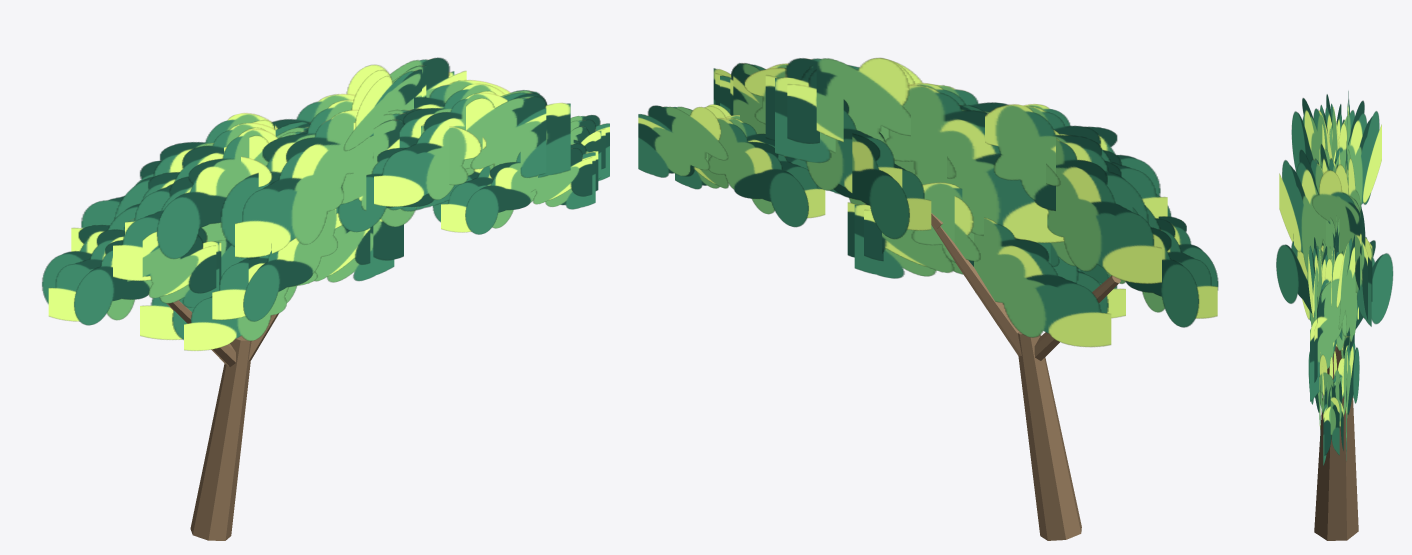
Rendered from TREE_COASTAL_WIND_001_LOD_CLOSE.glb.
3 views of the same model, side by side, from view 1: azimuth 30°, elevation 25°; view 2: azimuth 150°, elevation 25°; view 3: azimuth 270°, elevation 25° (orthographic). The views are drawn at different scales.
Parts seen in each view (by area): view 1: GG_TREE_COASTAL_WIND_001_FRONT_02_01, GG_TREE_COASTAL_WIND_001_BRANCH_00, GG_TREE_COASTAL_WIND_001_FRONT_03_02, GG_TREE_COASTAL_WIND_001_FRONT_01_02, GG_TREE_COASTAL_WIND_001_FRONT_03_01, GG_TREE_COASTAL_WIND_001_FRONT_05_02, GG_TREE_COASTAL_WIND_001_FRONT_00_00, GG_TREE_COASTAL_WIND_001_FRONT_01_00, GG_TREE_COASTAL_WIND_001_FRONT_05_00, GG_TREE_COASTAL_WIND_001_FRONT_03_00, GG_TREE_COASTAL_WIND_001_MID_02_01, GG_TREE_COASTAL_WIND_001_FRONT_04_01 (+25 smaller); view 2: GG_TREE_COASTAL_WIND_001_REAR_02_01, GG_TREE_COASTAL_WIND_001_REAR_05_00, GG_TREE_COASTAL_WIND_001_REAR_01_00, GG_TREE_COASTAL_WIND_001_REAR_02_02, GG_TREE_COASTAL_WIND_001_REAR_01_02, GG_TREE_COASTAL_WIND_001_BRANCH_00, GG_TREE_COASTAL_WIND_001_REAR_04_02, GG_TREE_COASTAL_WIND_001_REAR_04_01, GG_TREE_COASTAL_WIND_001_REAR_03_00, GG_TREE_COASTAL_WIND_001_REAR_03_02, GG_TREE_COASTAL_WIND_001_REAR_05_01, GG_TREE_COASTAL_WIND_001_REAR_00_01 (+14 smaller); view 3: GG_TREE_COASTAL_WIND_001_BRANCH_00, GG_TREE_COASTAL_WIND_001_FRONT_02_01, GG_TREE_COASTAL_WIND_001_REAR_01_00, GG_TREE_COASTAL_WIND_001_FRONT_02_02, GG_TREE_COASTAL_WIND_001_REAR_03_01, GG_TREE_COASTAL_WIND_001_FRONT_01_02, GG_TREE_COASTAL_WIND_001_FRONT_05_02, GG_TREE_COASTAL_WIND_001_REAR_03_00, GG_TREE_COASTAL_WIND_001_REAR_03_02, GG_TREE_COASTAL_WIND_001_MID_02_02, GG_TREE_COASTAL_WIND_001_REAR_04_01, GG_TREE_COASTAL_WIND_001_FRONT_04_02 (+14 smaller).
Boxes of the visible parts, bbox=[...] form: GG_TREE_COASTAL_WIND_001_FRONT_02_01: bbox=[235, 110, 358, 257]; GG_TREE_COASTAL_WIND_001_BRANCH_00: bbox=[190, 335, 251, 540]; GG_TREE_COASTAL_WIND_001_FRONT_03_02: bbox=[374, 93, 507, 206]; GG_TREE_COASTAL_WIND_001_FRONT_01_02: bbox=[157, 129, 277, 258]; GG_TREE_COASTAL_WIND_001_FRONT_03_01: bbox=[466, 96, 546, 177]; GG_TREE_COASTAL_WIND_001_FRONT_05_02: bbox=[243, 208, 342, 321]; GG_TREE_COASTAL_WIND_001_FRONT_00_00: bbox=[127, 231, 216, 298]; GG_TREE_COASTAL_WIND_001_FRONT_01_00: bbox=[113, 156, 272, 280]; GG_TREE_COASTAL_WIND_001_FRONT_05_00: bbox=[184, 254, 317, 350]; GG_TREE_COASTAL_WIND_001_FRONT_03_00: bbox=[338, 126, 481, 231]; GG_TREE_COASTAL_WIND_001_MID_02_01: bbox=[220, 100, 353, 246]; GG_TREE_COASTAL_WIND_001_FRONT_04_01: bbox=[465, 152, 536, 234]; GG_TREE_COASTAL_WIND_001_REAR_02_01: bbox=[885, 85, 1064, 242]; GG_TREE_COASTAL_WIND_001_REAR_05_00: bbox=[950, 217, 1111, 347]; GG_TREE_COASTAL_WIND_001_REAR_01_00: bbox=[1047, 138, 1161, 283]; GG_TREE_COASTAL_WIND_001_REAR_02_02: bbox=[765, 58, 910, 144]; GG_TREE_COASTAL_WIND_001_REAR_01_02: bbox=[985, 104, 1148, 223]; GG_TREE_COASTAL_WIND_001_BRANCH_00: bbox=[1017, 332, 1081, 540]; GG_TREE_COASTAL_WIND_001_REAR_04_02: bbox=[638, 105, 728, 177]; GG_TREE_COASTAL_WIND_001_REAR_04_01: bbox=[708, 118, 808, 227]; GG_TREE_COASTAL_WIND_001_REAR_03_00: bbox=[834, 133, 909, 239]; GG_TREE_COASTAL_WIND_001_REAR_03_02: bbox=[744, 68, 902, 192]; GG_TREE_COASTAL_WIND_001_REAR_05_01: bbox=[847, 196, 980, 272]; GG_TREE_COASTAL_WIND_001_REAR_00_01: bbox=[1125, 207, 1199, 327]; GG_TREE_COASTAL_WIND_001_BRANCH_00: bbox=[1314, 368, 1358, 540]; GG_TREE_COASTAL_WIND_001_FRONT_02_01: bbox=[1279, 149, 1325, 273]; GG_TREE_COASTAL_WIND_001_REAR_01_00: bbox=[1333, 100, 1381, 204]; GG_TREE_COASTAL_WIND_001_FRONT_02_02: bbox=[1312, 170, 1372, 301]; GG_TREE_COASTAL_WIND_001_REAR_03_01: bbox=[1310, 253, 1343, 401]; GG_TREE_COASTAL_WIND_001_FRONT_01_02: bbox=[1291, 98, 1332, 172]; GG_TREE_COASTAL_WIND_001_FRONT_05_02: bbox=[1276, 234, 1323, 313]; GG_TREE_COASTAL_WIND_001_REAR_03_00: bbox=[1331, 240, 1393, 336]; GG_TREE_COASTAL_WIND_001_REAR_03_02: bbox=[1336, 234, 1366, 341]; GG_TREE_COASTAL_WIND_001_MID_02_02: bbox=[1335, 164, 1371, 326]; GG_TREE_COASTAL_WIND_001_REAR_04_01: bbox=[1342, 334, 1359, 414]; GG_TREE_COASTAL_WIND_001_FRONT_04_02: bbox=[1319, 354, 1339, 455].
Size of the model in its own units: 7.51 by 5.55 by 1.38.
2 materials, 1 textured.
